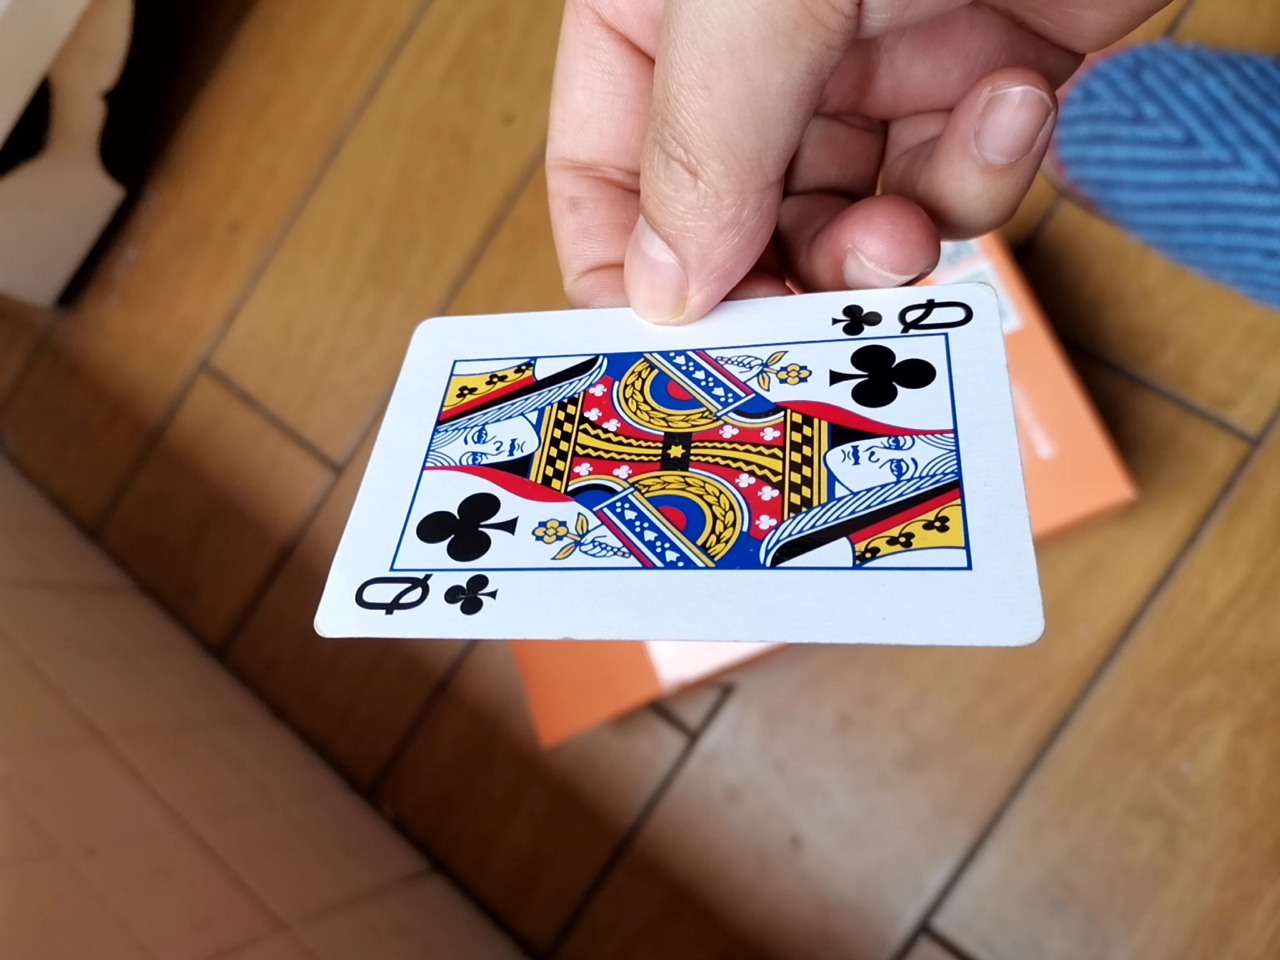mh q: (289, 259, 1045, 672)
